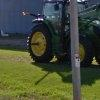Tractor: (17, 10, 100, 67)
